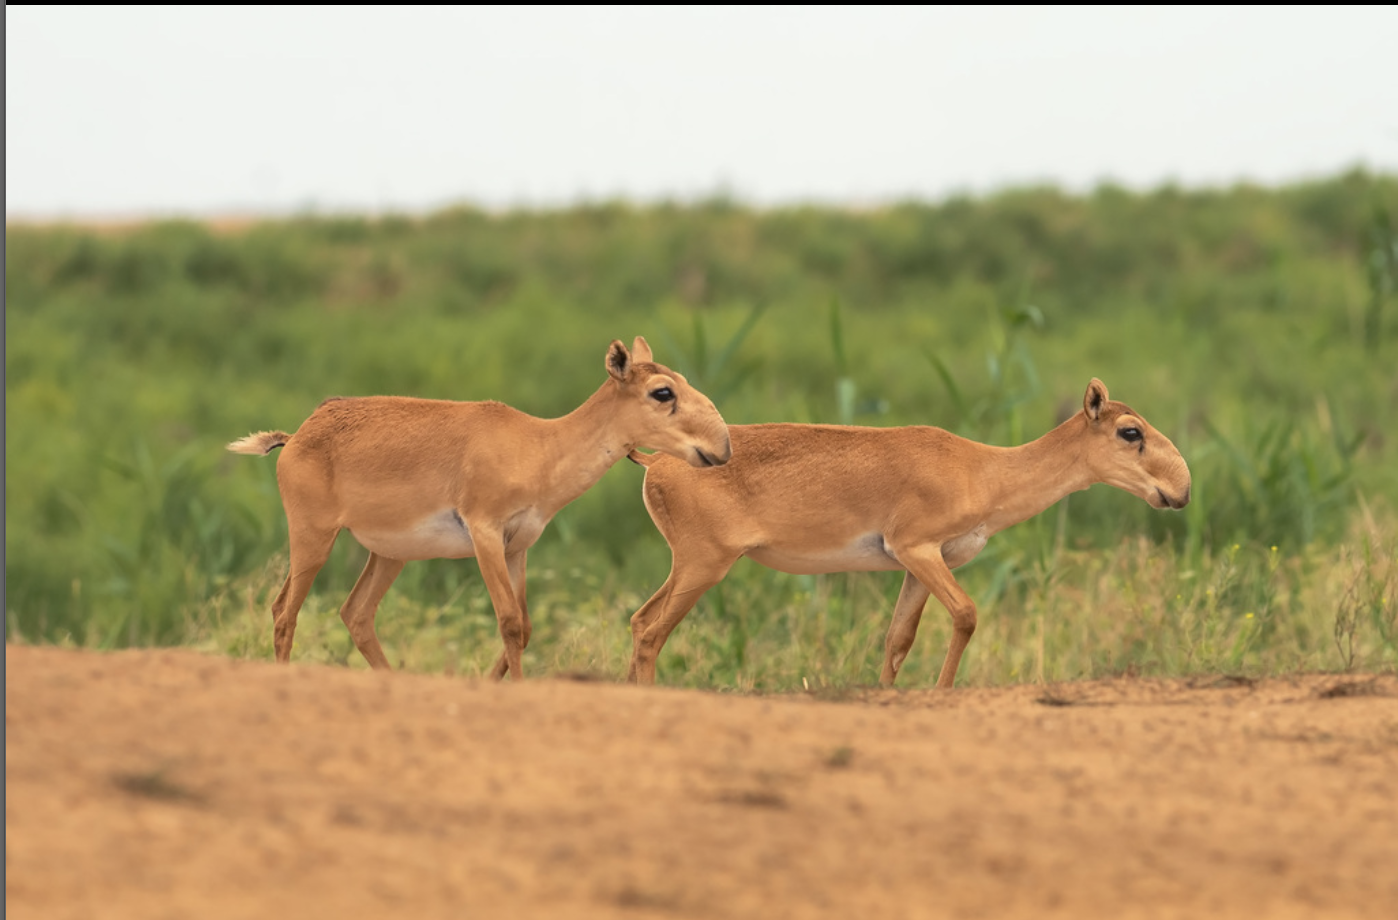saiga: (598, 386, 1191, 687), (220, 339, 735, 684)
